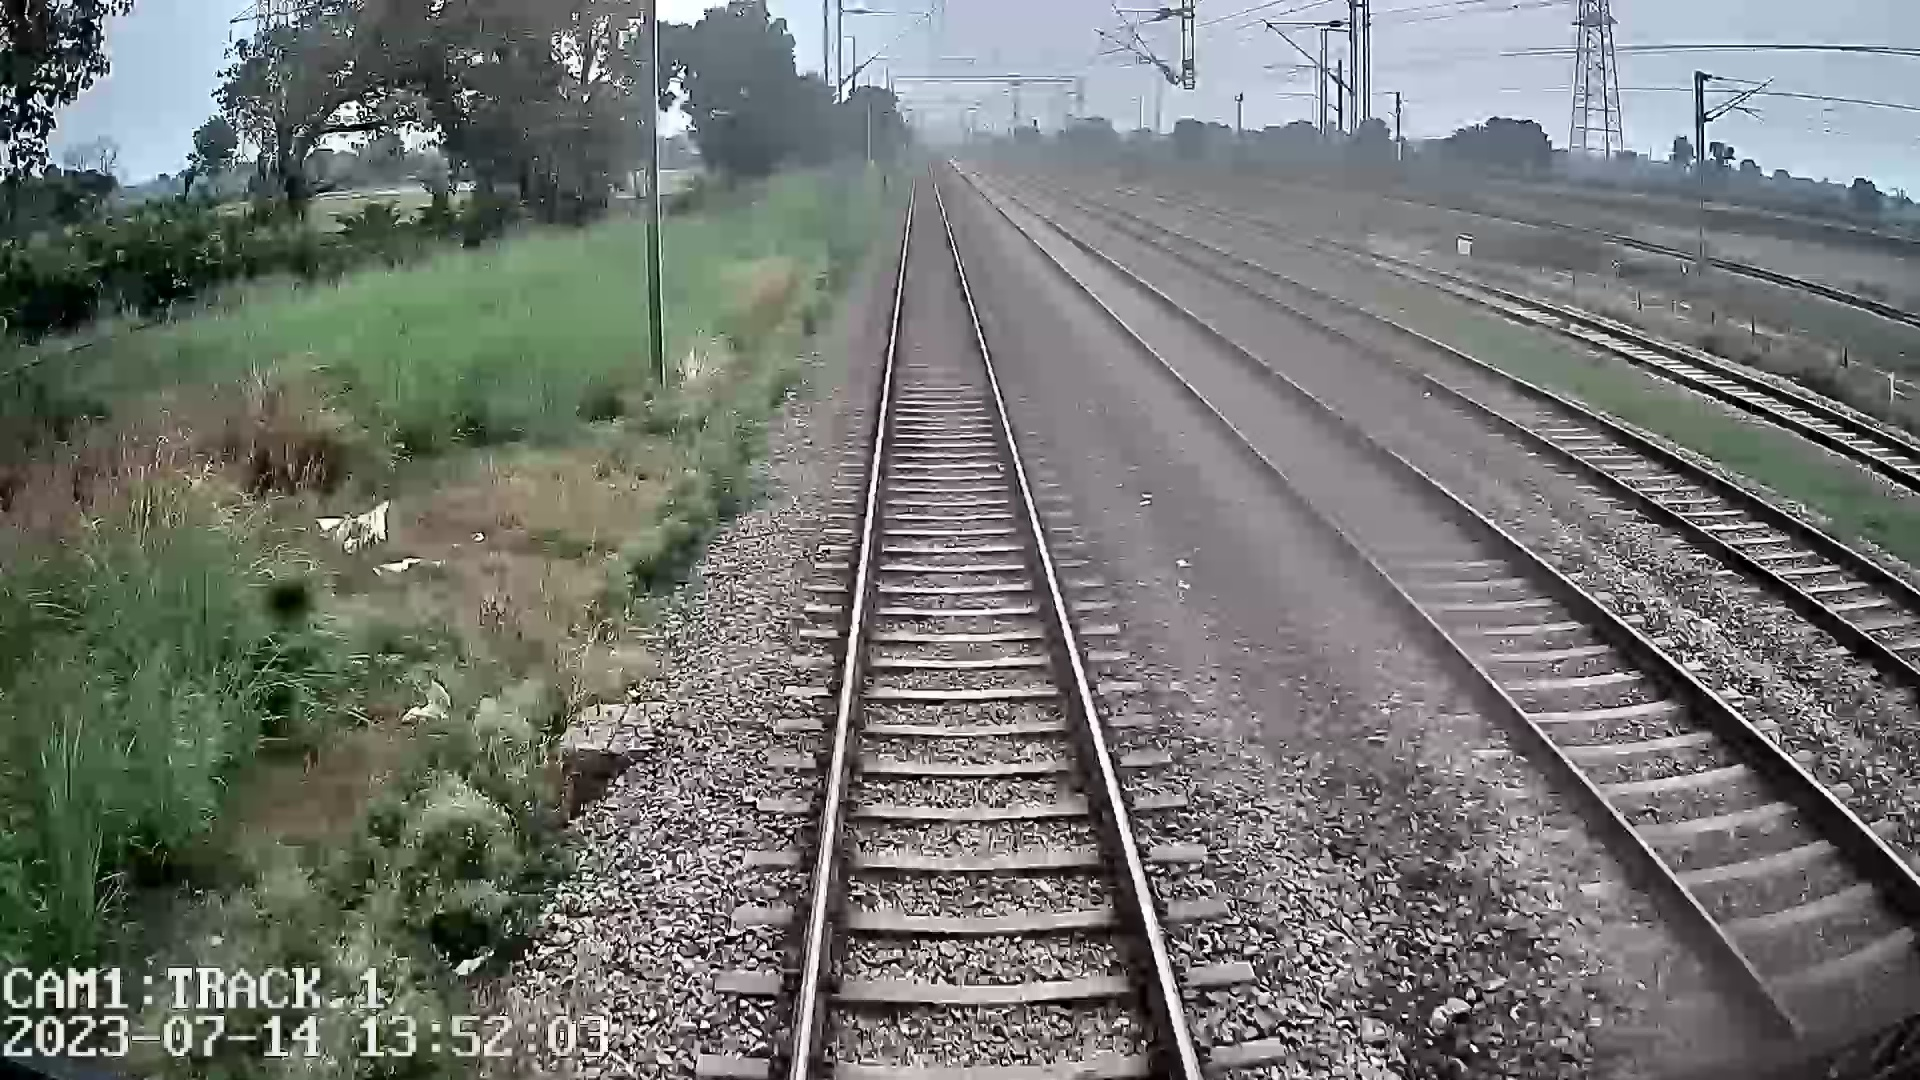track1: (799, 199, 1189, 1065)
track2: (1011, 218, 1915, 990)
track3: (1213, 261, 1915, 661)
track4: (1327, 247, 1919, 479)
